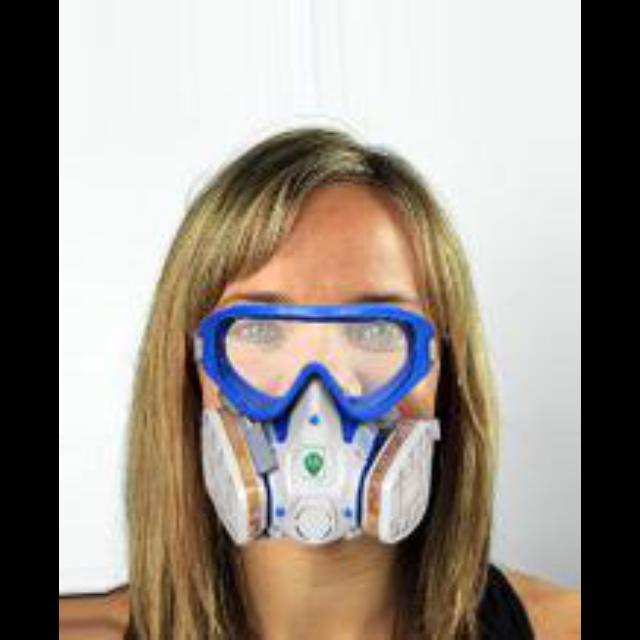suspicion: (148, 158, 504, 564)
